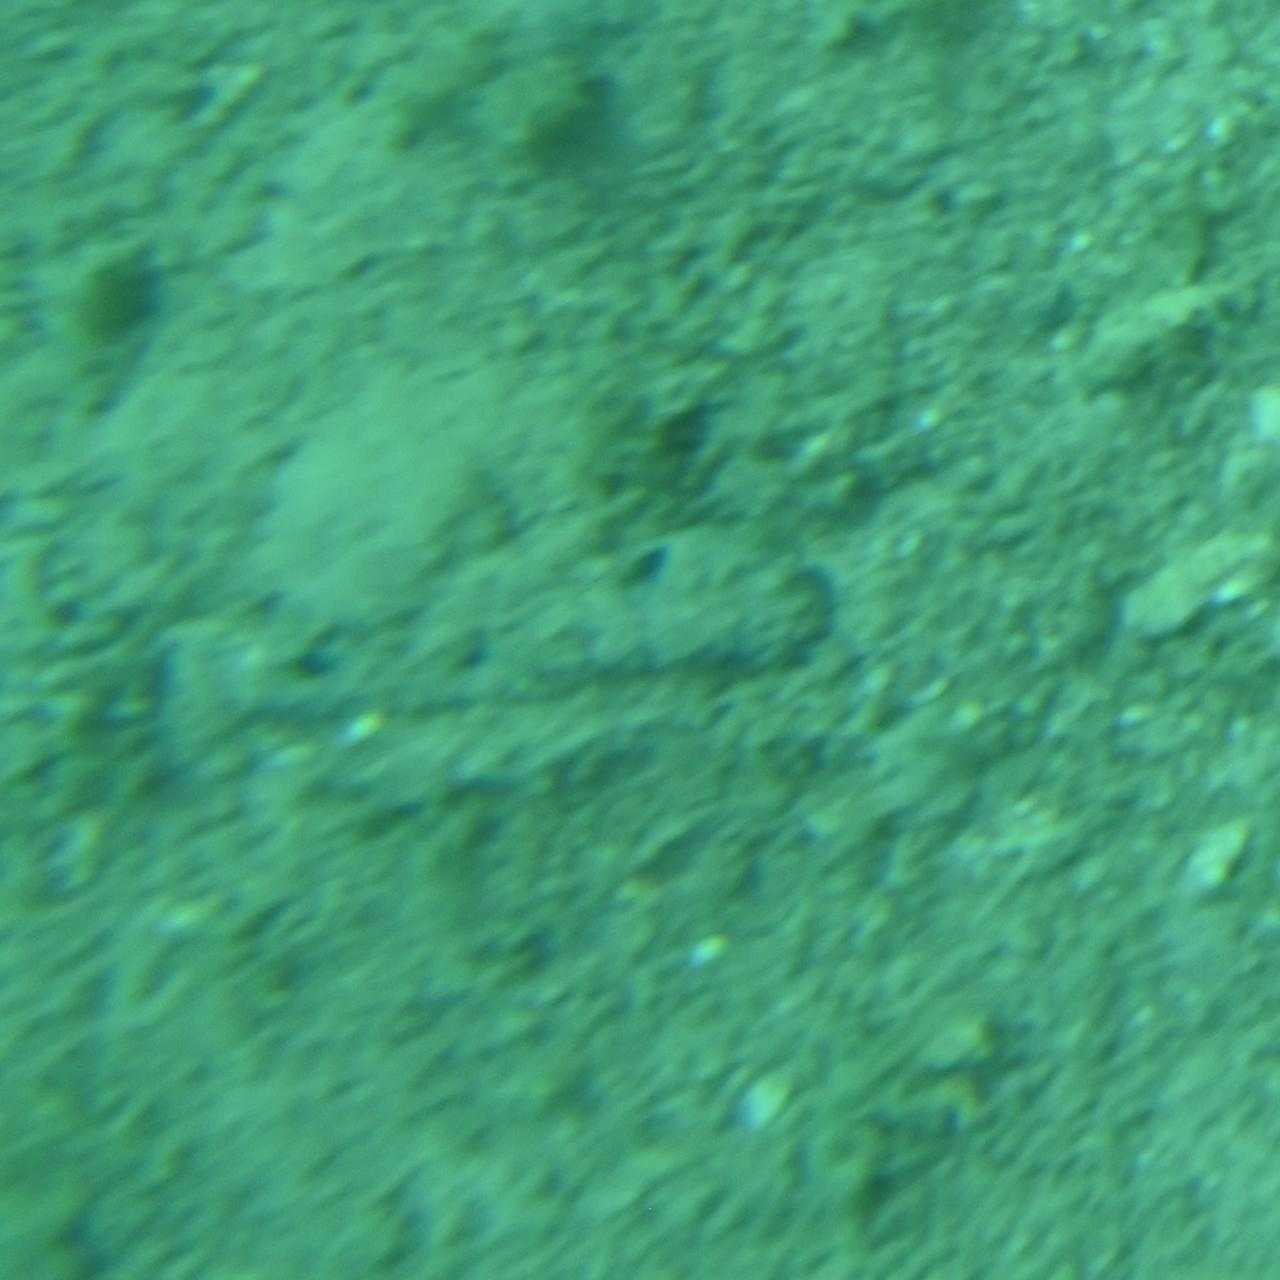Holothuria tubulosa: (134, 504, 838, 776)
